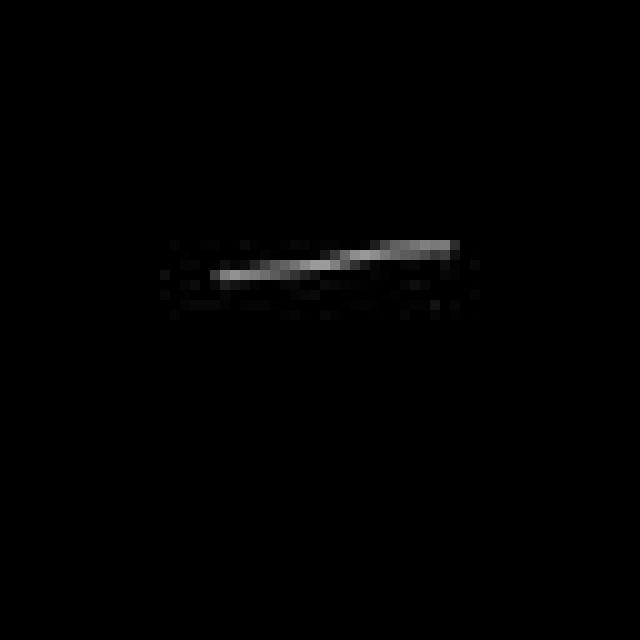1 -one-: (204, 233, 457, 303)
